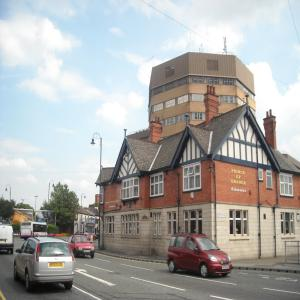Vehicle-registration-plate: (51, 263, 64, 268)
